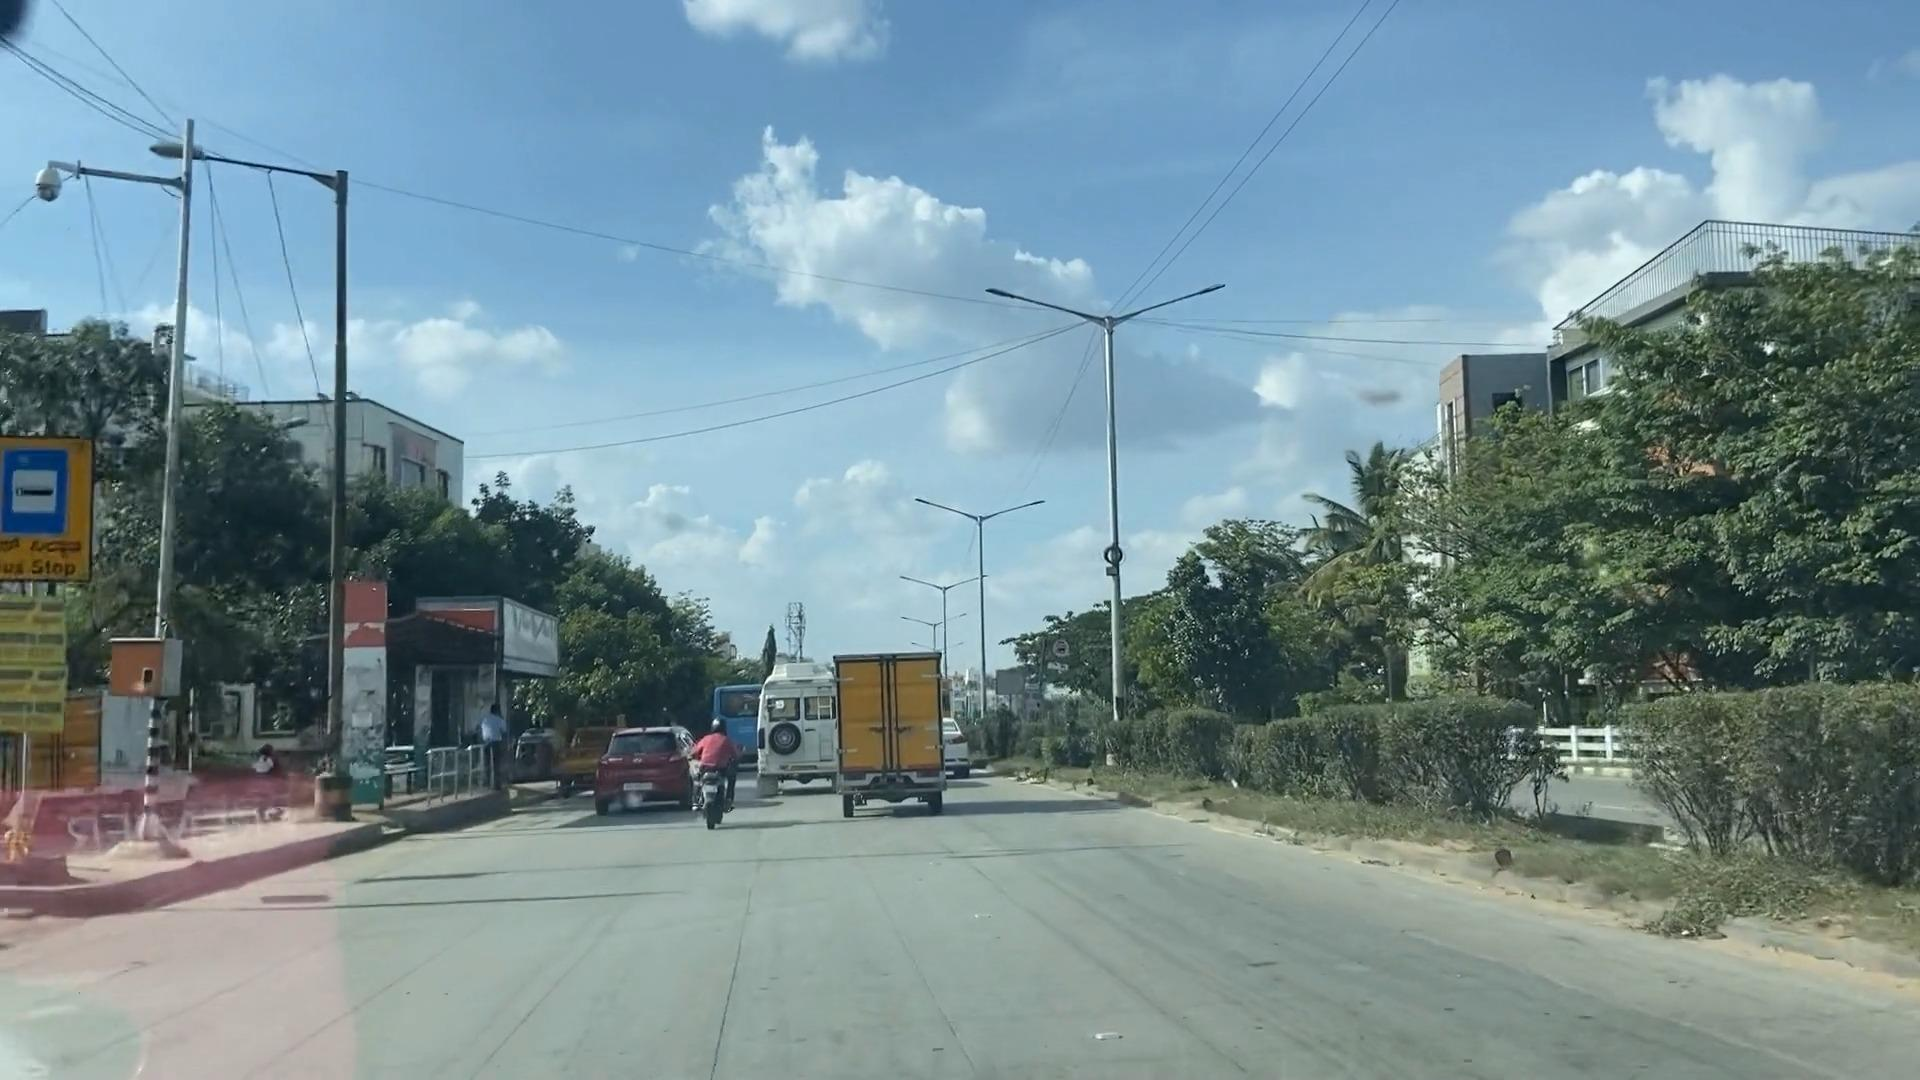HMV: (824, 646, 955, 824)
LMV: (596, 719, 700, 822), (692, 727, 753, 822)
